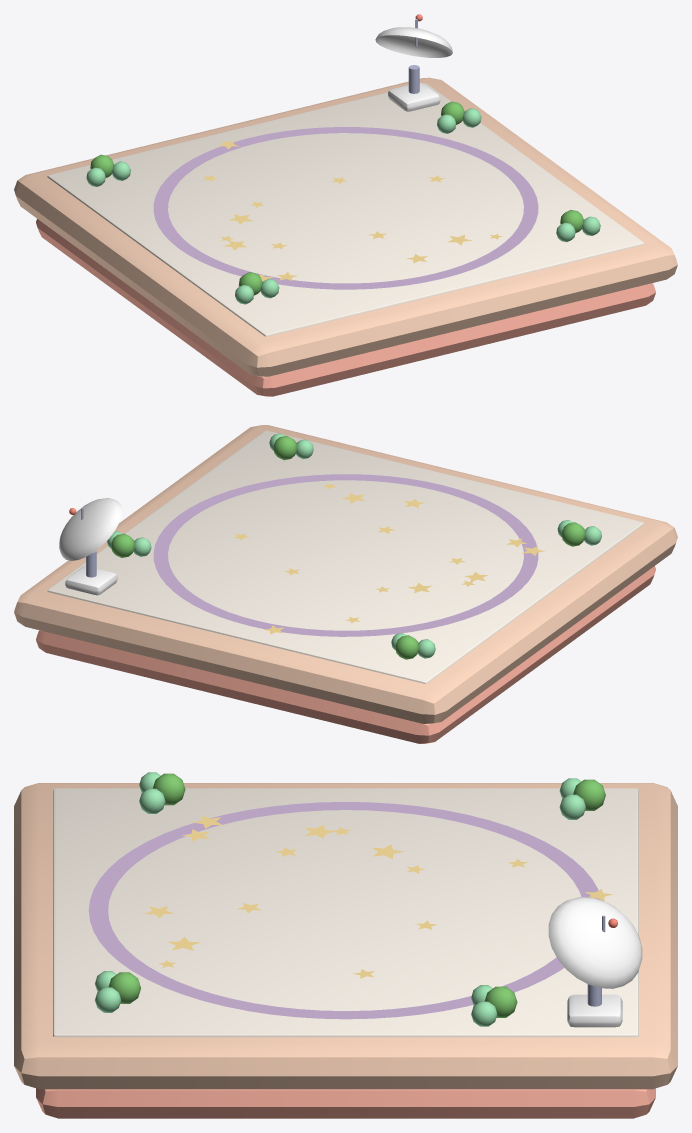
The model's file is stand.glb.
The picture shows the model from 3 angles, top to bottom: view 1: azimuth 30°, elevation 25°; view 2: azimuth 150°, elevation 25°; view 3: azimuth 270°, elevation 25°; orthographic projection. The views are drawn at different scales.
Visible parts, largest first — view 1: StandBase; view 2: StandBase; view 3: StandBase.
Boxes of the visible parts, x1,y1,x2,y2 form: StandBase: (14,14,677,396); StandBase: (14,425,677,743); StandBase: (14,772,677,1118).
Bounding box in the file's own units: 2.4 × 0.7666 × 2.4.
